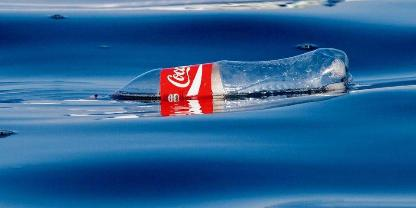Plastic Bottle: (90, 49, 358, 117)
